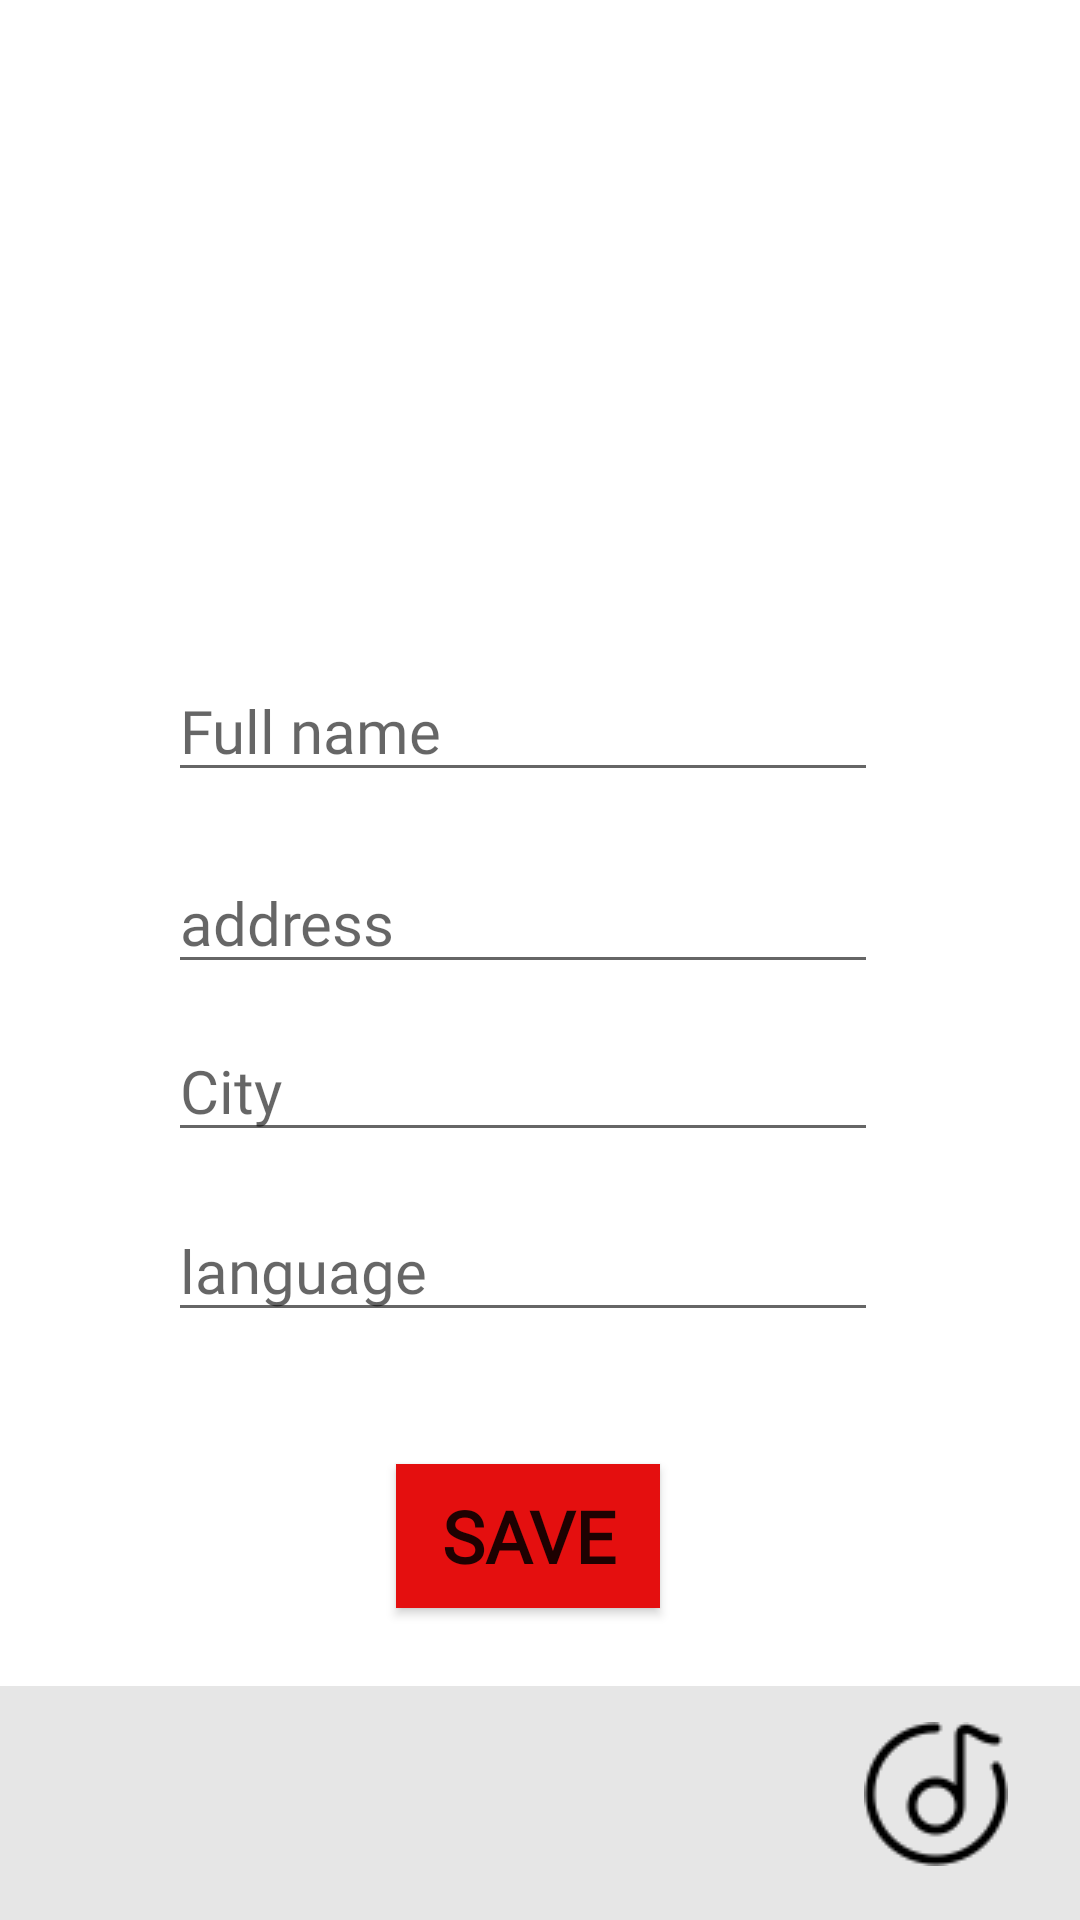

Where to tap for icons on this 1080px x 1920px app screen, as (x,y):
songs: (936,1794)
